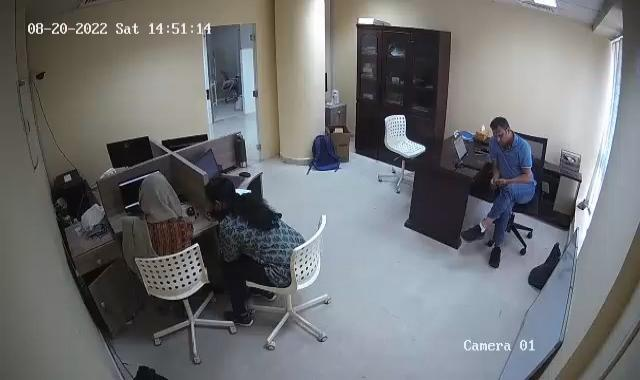no_hairnet: (133, 171, 174, 206), (202, 174, 236, 210), (484, 118, 516, 151)
